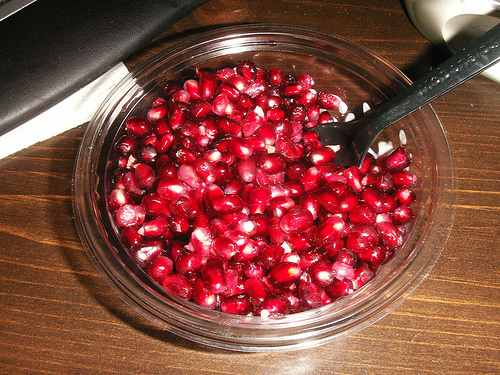pomogranate: (97, 59, 436, 313)
